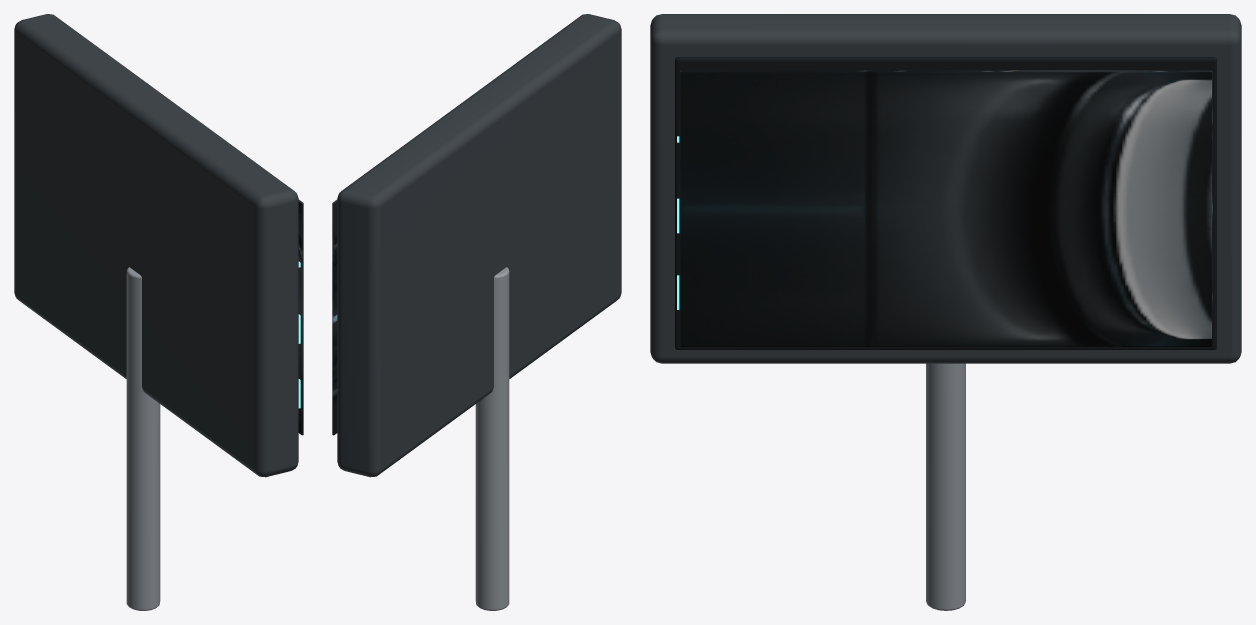
File: ZH_ENV_Control_CCTV_Monitor_03.fbx
3 views of the same model, side by side, from view 1: azimuth 30°, elevation 25°; view 2: azimuth 150°, elevation 25°; view 3: azimuth 270°, elevation 25° (orthographic). The views are drawn at different scales.
Parts seen in each view (by area): view 1: CCTV 3 | frame.001, Monitor | pedestal.003, CCTV | live-room preview 3.001; view 2: CCTV 3 | frame.001, Monitor | pedestal.003, CCTV | live-room preview 3.001; view 3: CCTV | live-room preview 3.001, CCTV 3 | frame.001, CCTV 3 | screen.001, Monitor | pedestal.003.
Boxes of the visible parts, <box> form: CCTV 3 | frame.001: <box>14,14,298,477</box>; Monitor | pedestal.003: <box>126,267,160,610</box>; CCTV | live-room preview 3.001: <box>298,199,303,435</box>; CCTV 3 | frame.001: <box>337,14,621,477</box>; Monitor | pedestal.003: <box>475,267,509,610</box>; CCTV | live-room preview 3.001: <box>332,199,337,435</box>; CCTV | live-room preview 3.001: <box>679,70,1212,346</box>; CCTV 3 | frame.001: <box>650,14,1241,363</box>; CCTV 3 | screen.001: <box>675,57,1216,349</box>; Monitor | pedestal.003: <box>926,363,965,610</box>.
Bounding box in the file's own units: 0.1935 × 1.45 × 1.32.
5 materials, 1 textured.
